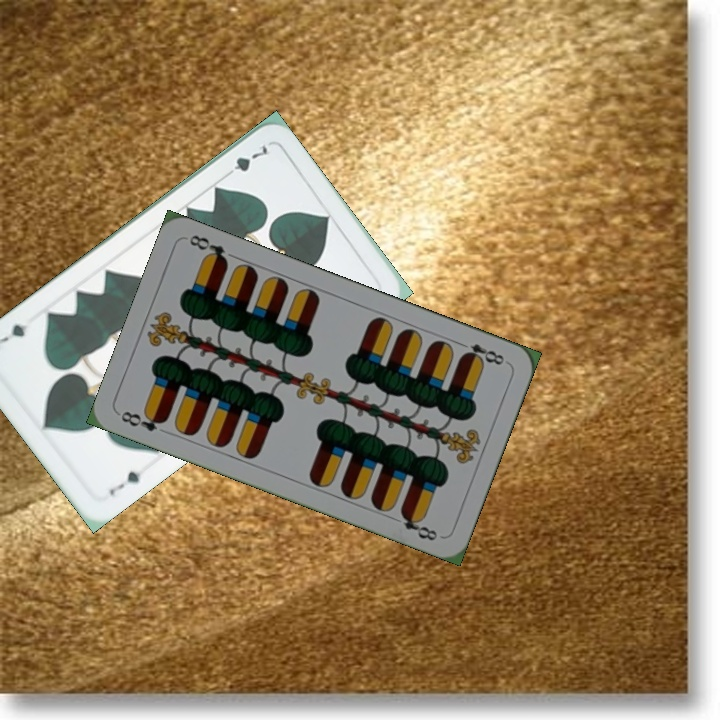E8: (453, 337, 507, 368), (116, 407, 169, 434)
G7: (219, 141, 273, 181), (105, 467, 144, 499)
